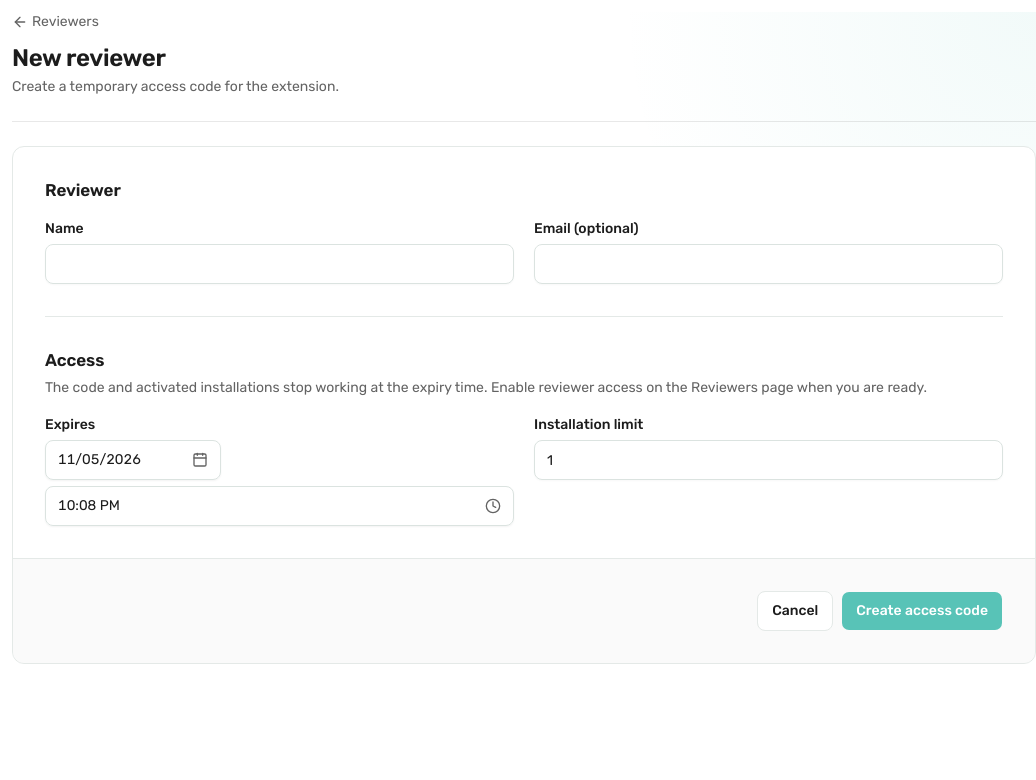
Test: creates an invite using the shared form and shows its code once
The image size is (1036, 780).
Type "Jamie" into the field labelled "Name". click: (280, 264)
box: [45,244,514,284]
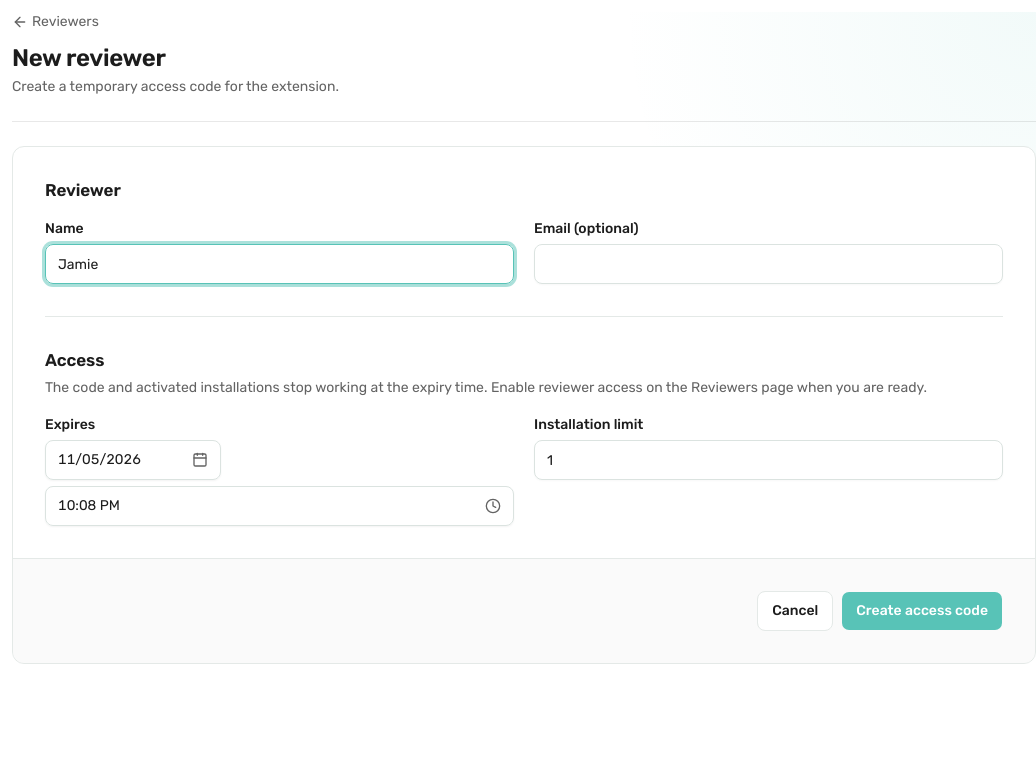
Click the button "Create access code". click: (922, 611)
box: [841,591,1003,631]
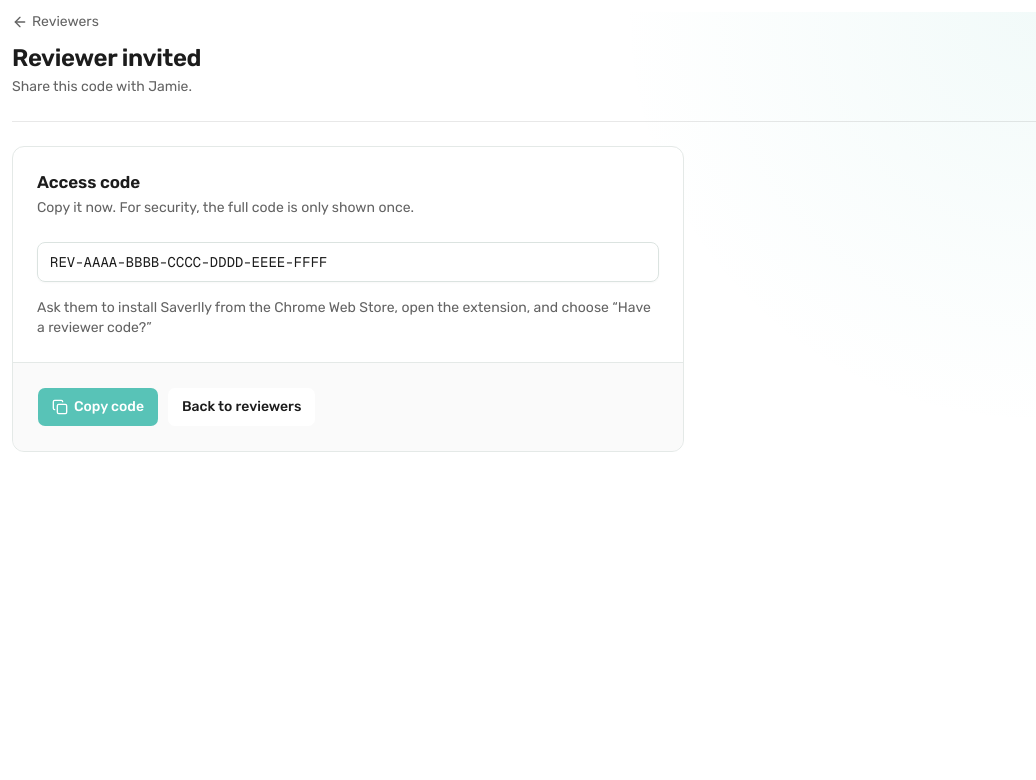
Expected: the field named "Reviewer access code" holds "REV-AAAA-BBBB-CCCC-DDDD-EEEE-FFFF", [37,242,659,282]
Expected: the heading "Reviewer invited" is shown, [12,44,201,73]
